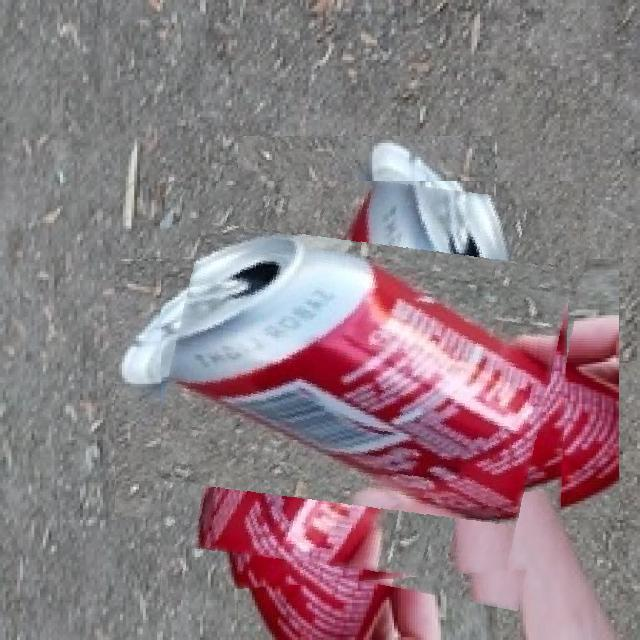recyclable: (161, 181, 574, 595)
